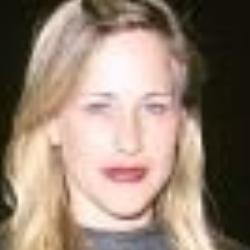face: (6, 3, 220, 237)
